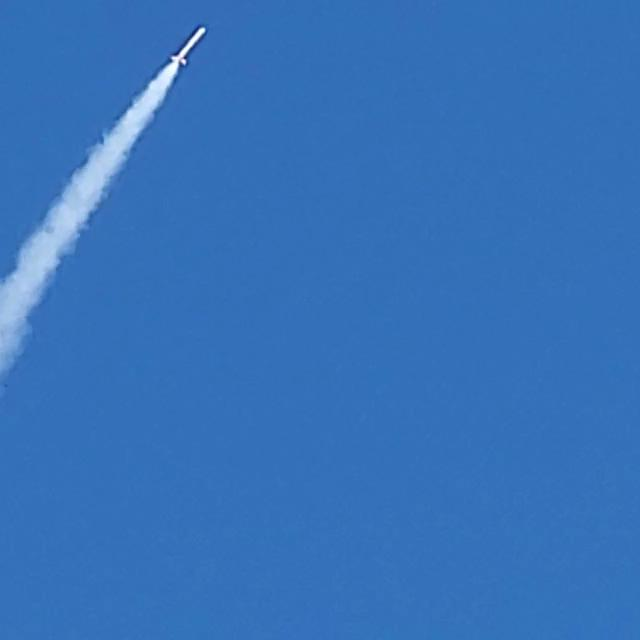rocket: (158, 26, 206, 75)
